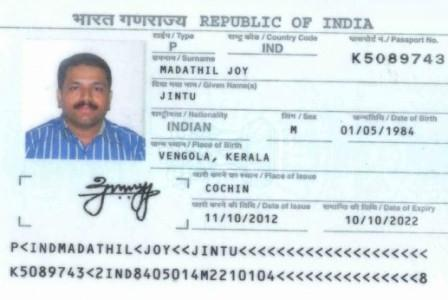DOB: (331, 125, 437, 138)
Surname: (158, 64, 252, 80)
country_code: (254, 41, 288, 58)
date_of_expiry: (335, 213, 441, 229)
date_of_issue: (194, 210, 295, 228)
details: (5, 241, 441, 290)
name: (155, 90, 208, 104)
nationality: (166, 120, 212, 134)
passport_no: (348, 51, 444, 66)
photo: (22, 40, 144, 157)
place_of_birth: (157, 147, 271, 163)
place_of_issue: (195, 181, 261, 195)
sex: (286, 123, 304, 136)
sign: (57, 168, 164, 224)
type: (163, 38, 182, 57)
